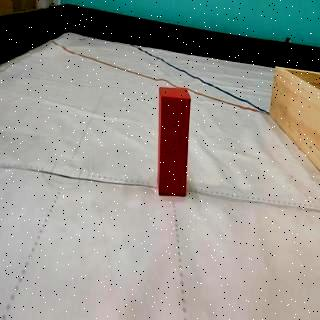redbox: (157, 85, 190, 197)
